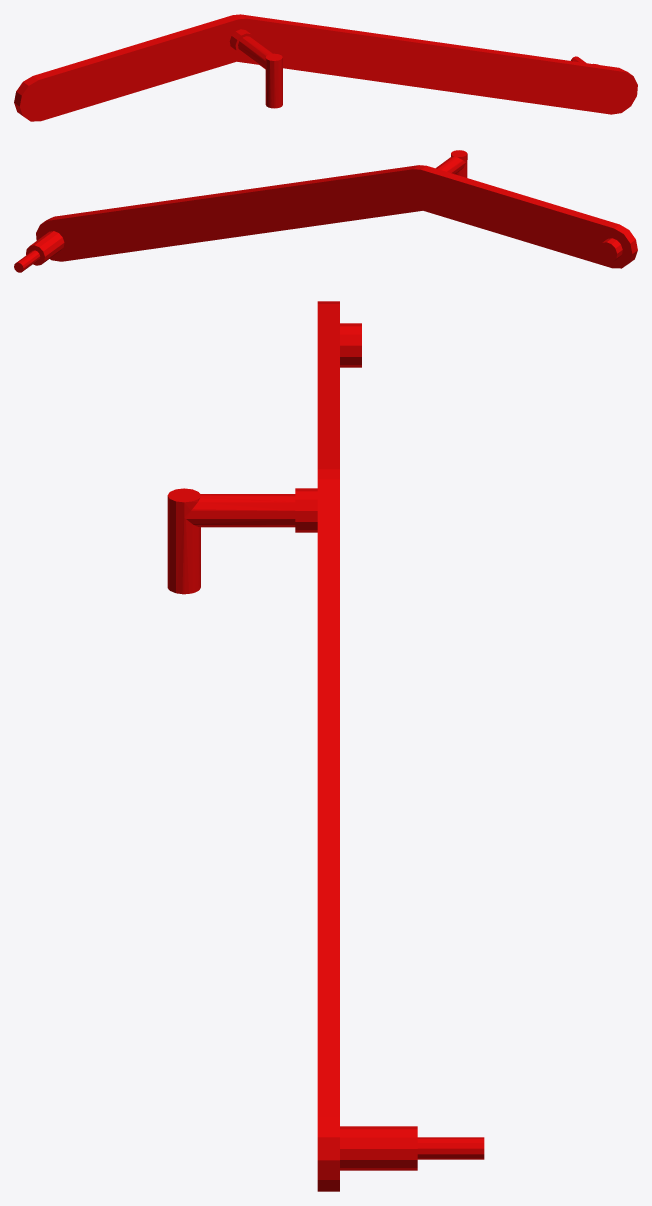
File: LeftMainRocket.dae
3 renders of one model, top to bottom at view 1: azimuth 30°, elevation 25°; view 2: azimuth 150°, elevation 25°; view 3: azimuth 270°, elevation 25°, orthographic. The views are drawn at different scales.
Visible parts, largest first — view 1: LeftMainRocket.001; view 2: LeftMainRocket.001; view 3: LeftMainRocket.001.
Part boxes in pixels (x1,y1,x2,y2): LeftMainRocket.001: [14, 14, 637, 121]; LeftMainRocket.001: [14, 150, 637, 272]; LeftMainRocket.001: [167, 301, 484, 1191].
Size of the model in its own units: 1.24 by 0.285 by 0.3587.
